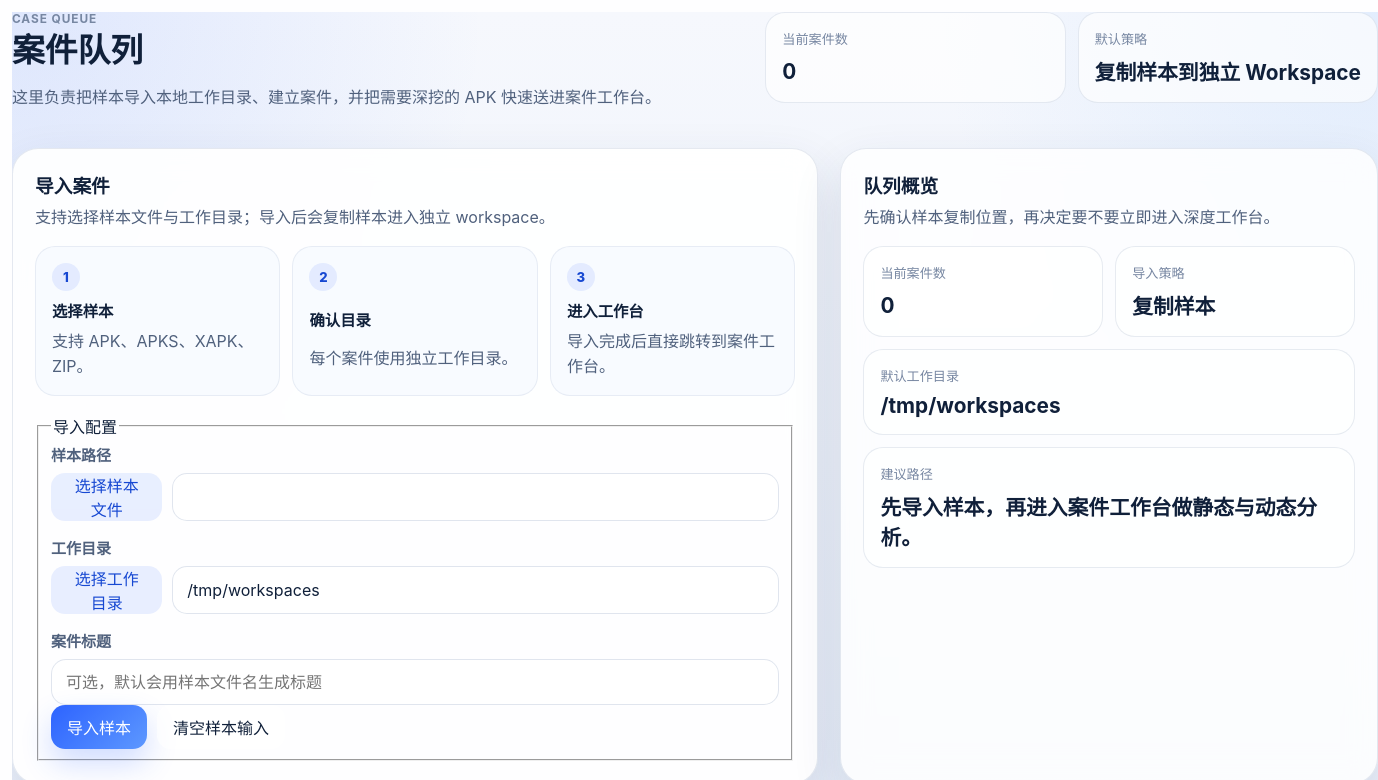
it: CaseQueuePage › fills the sample path from the native chooser when available
The width and height of the screenshot is (1378, 780).
Click the button "选择样本文件" at (107, 497), box [51, 473, 162, 521]
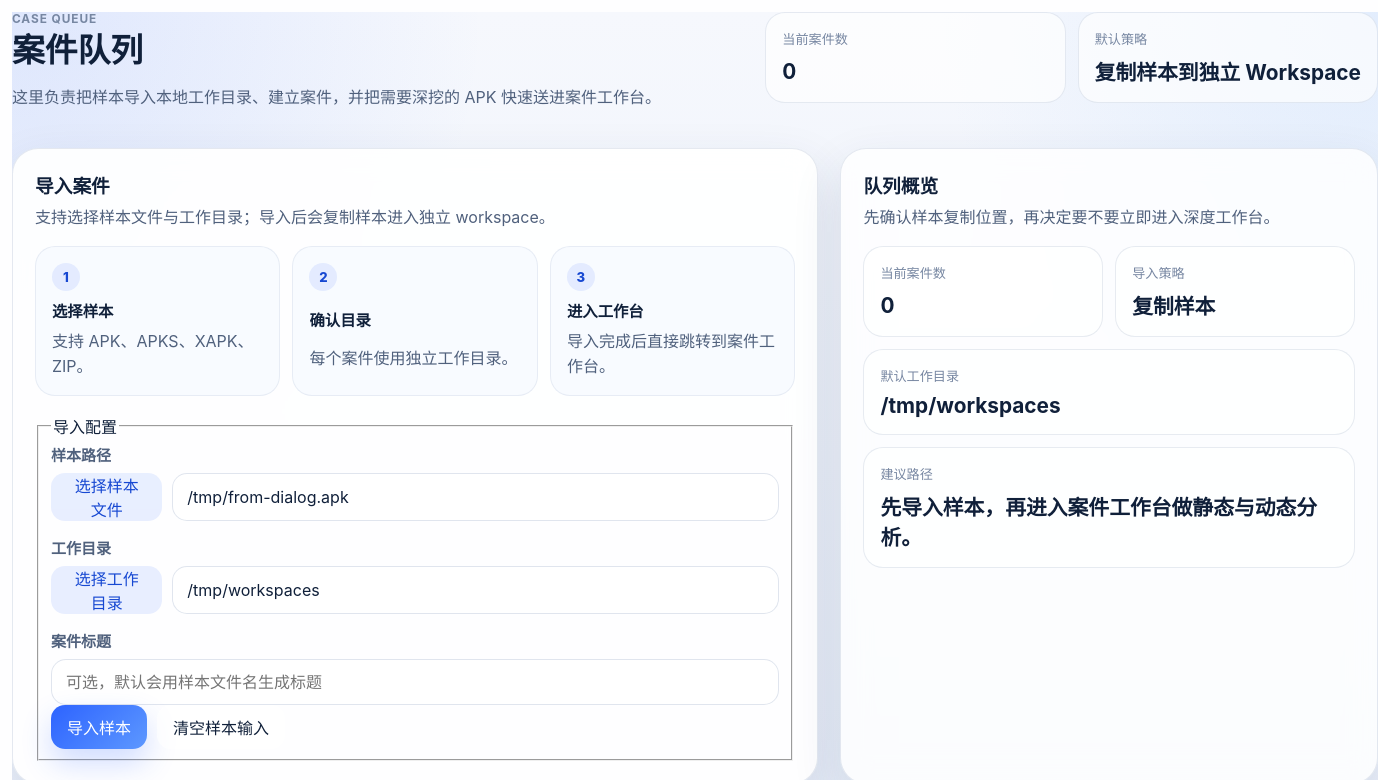
expect the field labelled "样本路径" holds "/tmp/from-dialog.apk": met, box [172, 473, 779, 521]
